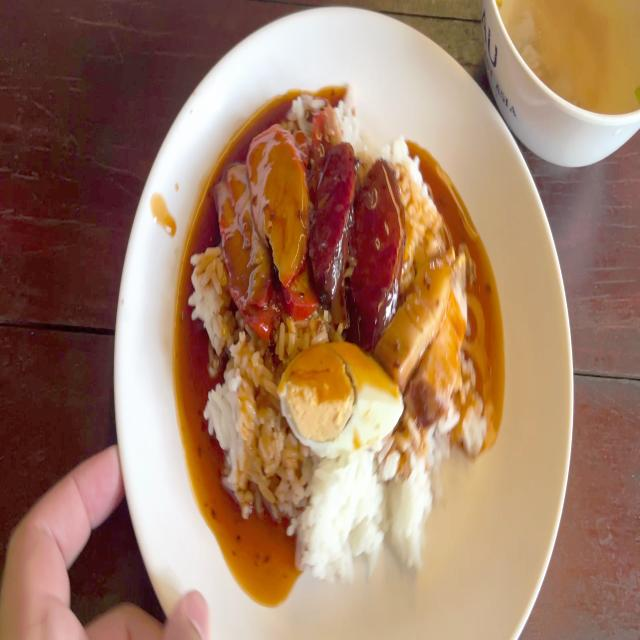boiled_egg: (273, 347, 400, 446)
chainese_sausage: (314, 140, 397, 323)
crispy_pork: (388, 251, 464, 407)
red_pork: (218, 129, 305, 307)
red_pork_and_crispy_pork: (187, 82, 481, 574)
rice: (270, 455, 434, 566), (210, 342, 266, 495), (187, 268, 225, 330)
